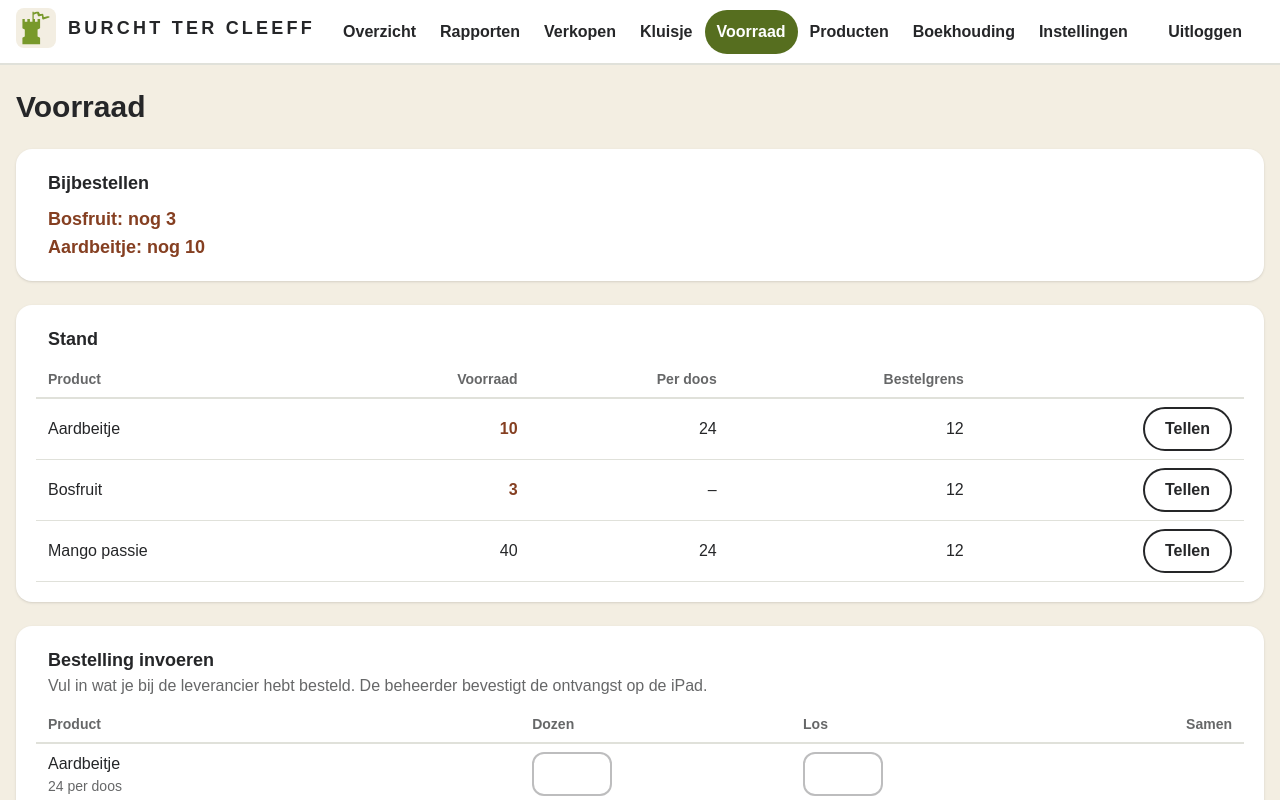
it: posts only the lines that have a quantity
In the number field named "Dozen": (572, 774) [532,752,612,796], type "2"
(page scrolled)
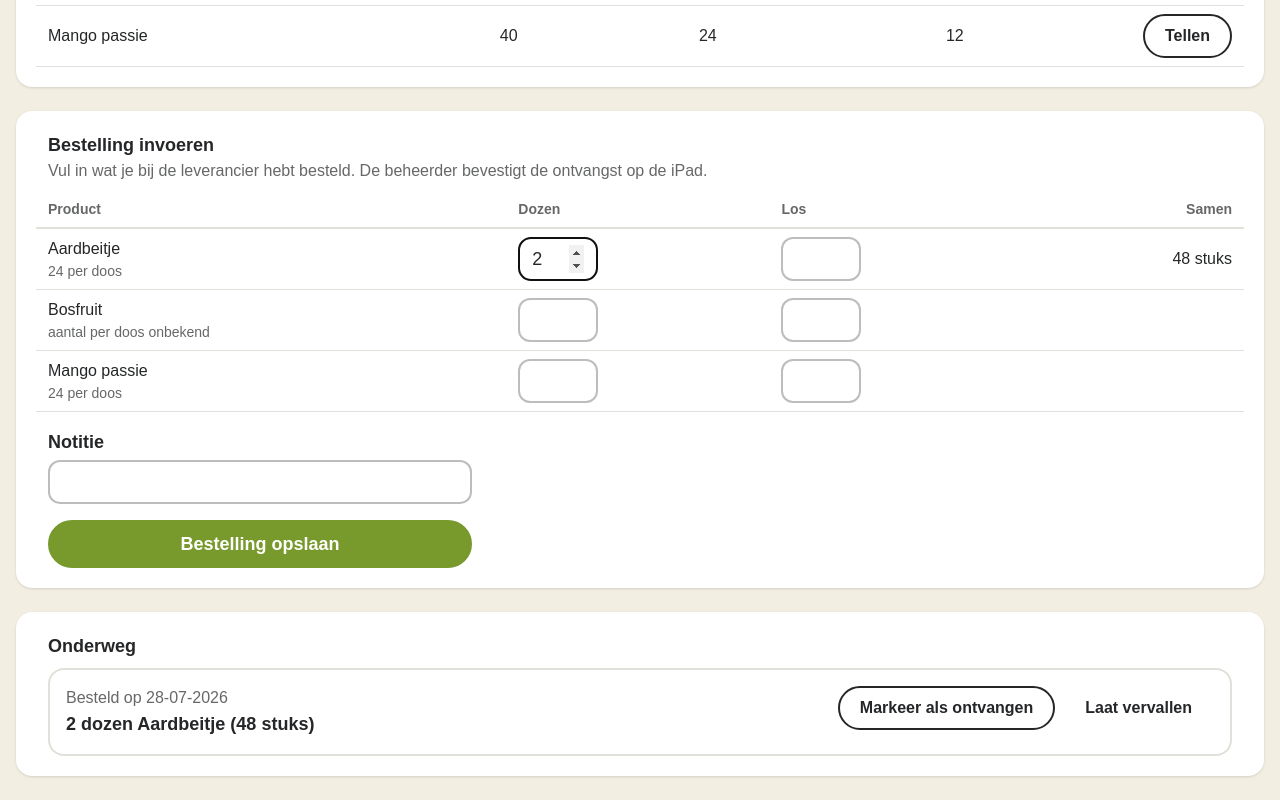
Expected: the text "48 stuks" is shown, [1032,228,1244,290]
Click the button "Bestelling opslaan": click(260, 544) [48,520,472,568]
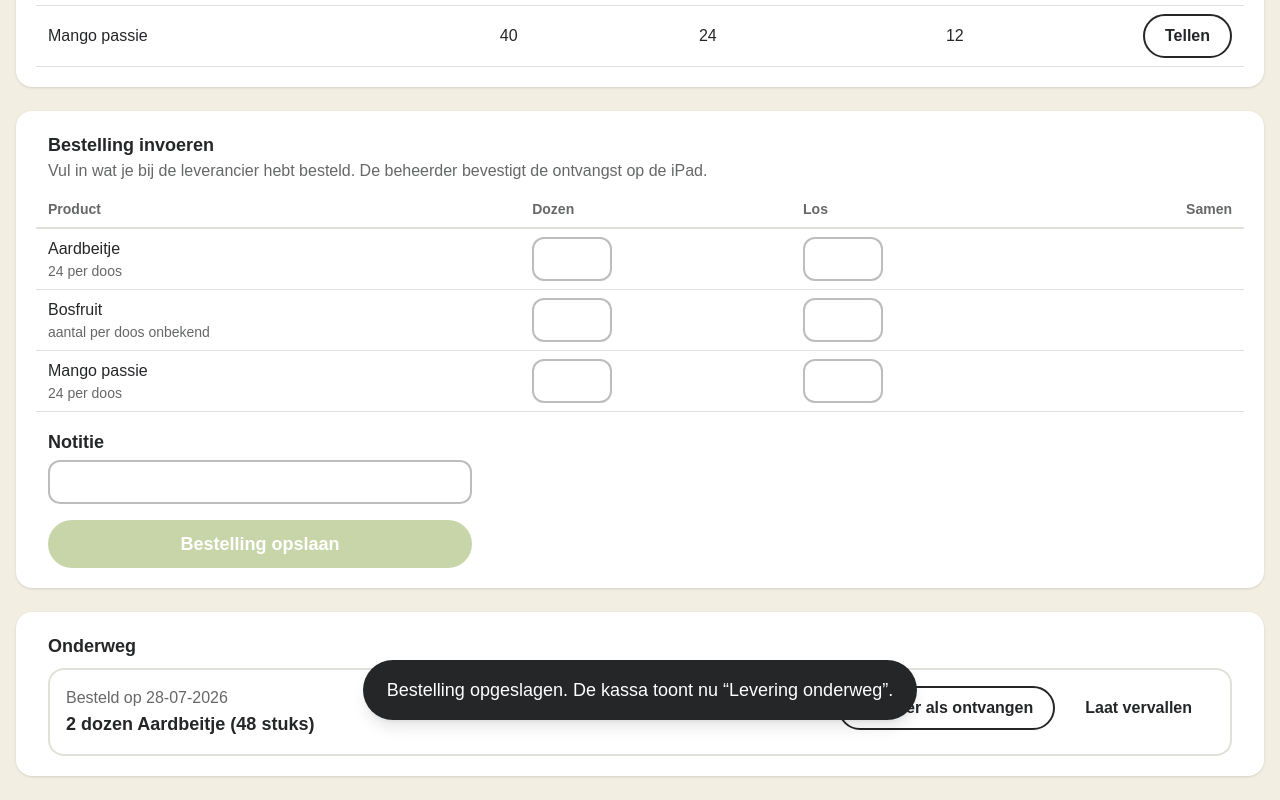
Expected: the 1st number field named "Dozen" is not empty, [532,237,612,281]
